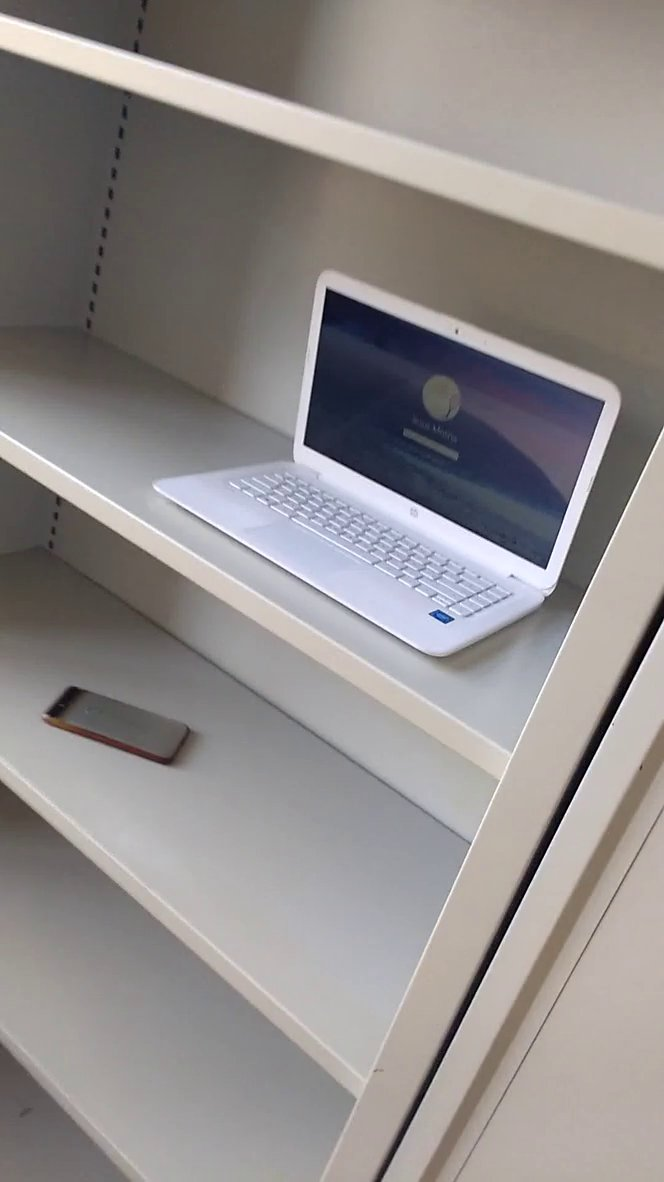laptop: (140, 255, 647, 690)
phone: (38, 680, 201, 776)
